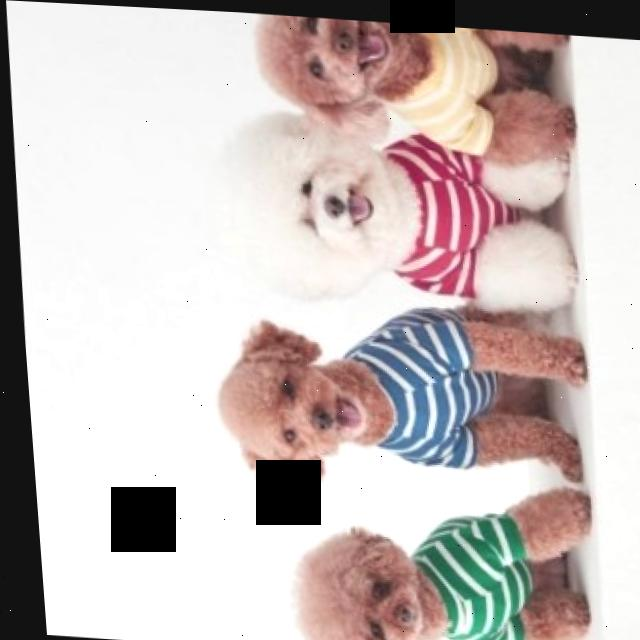cloth: (382, 129, 532, 290), (338, 305, 488, 460), (403, 506, 524, 640), (387, 18, 500, 147)
